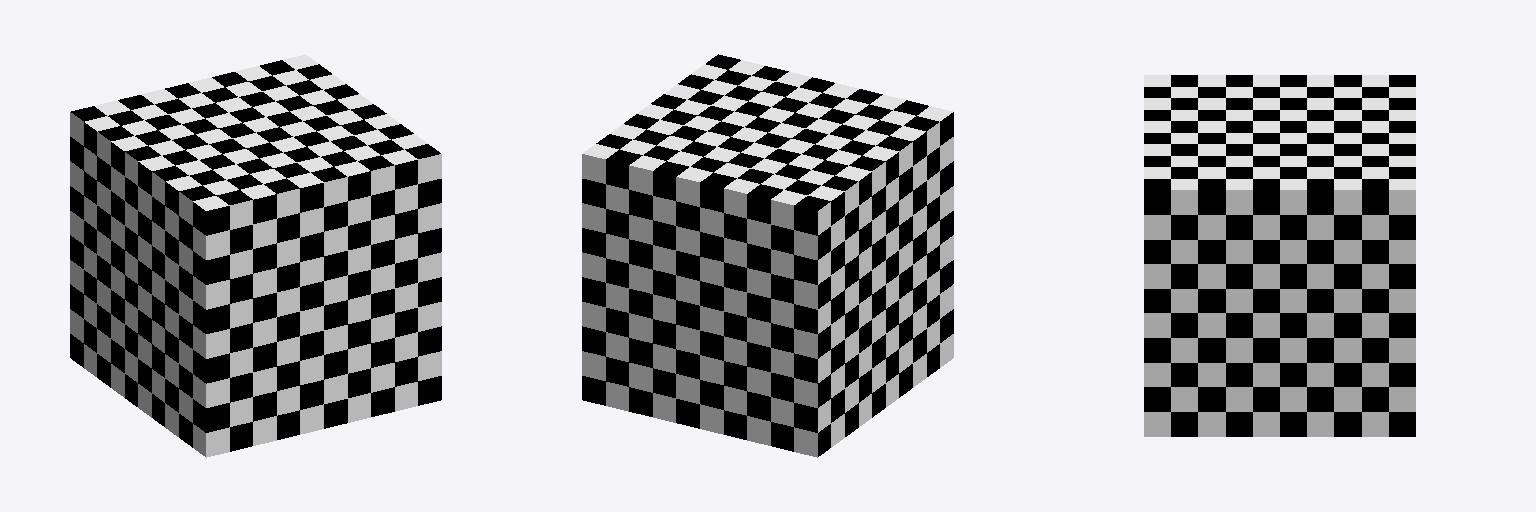
Rendered from checkercube.obj.
3 views of the same model, side by side, from view 1: azimuth 30°, elevation 25°; view 2: azimuth 150°, elevation 25°; view 3: azimuth 270°, elevation 25° (orthographic).
Visible parts, largest first — view 1: checkercube; view 2: checkercube; view 3: checkercube.
Part boxes in pixels (x1,y1,x2,y2): checkercube: (70,54,441,457); checkercube: (582,54,953,457); checkercube: (1144,75,1415,436).
Size of the model in its own units: 1 by 1 by 1.